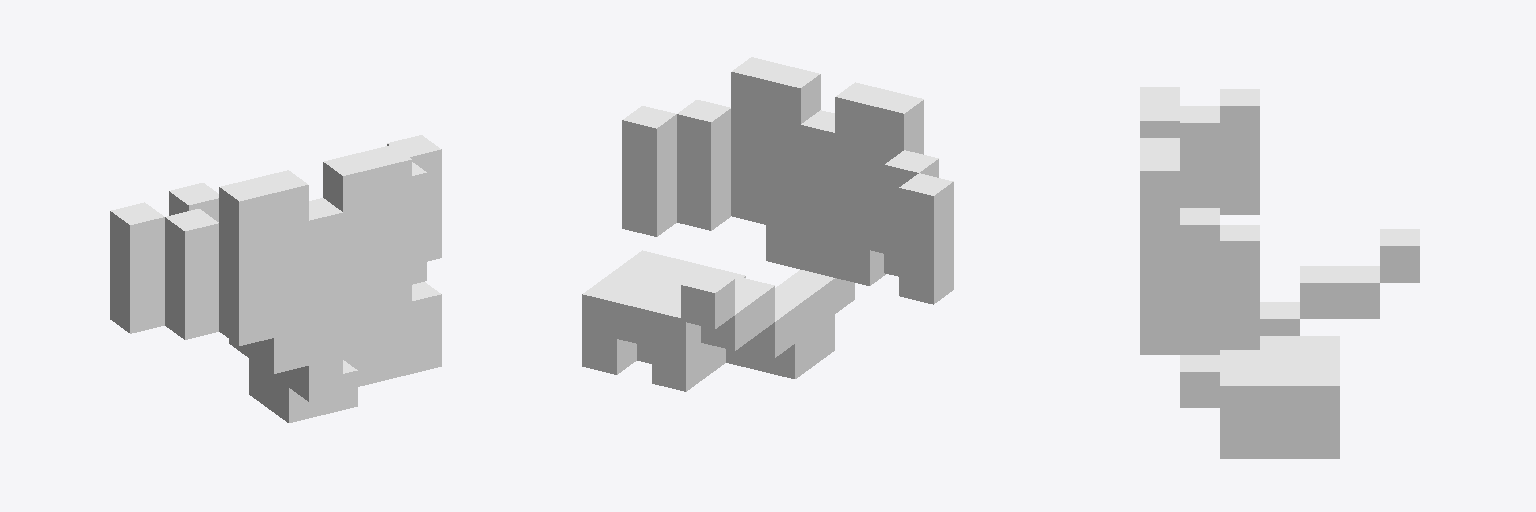
Rendered from Radar2.obj.
3 views of the same model, side by side, from view 1: azimuth 30°, elevation 25°; view 2: azimuth 150°, elevation 25°; view 3: azimuth 270°, elevation 25° (orthographic).
Parts seen in each view (by area): view 1: object 1; view 2: object 1; view 3: object 1.
Boxes of the visible parts, x1,y1,x2,y2 form: object 1: [110, 135, 441, 422]; object 1: [582, 57, 953, 391]; object 1: [1140, 87, 1419, 458].
Size of the model in its own units: 0.9 by 0.7 by 0.7.